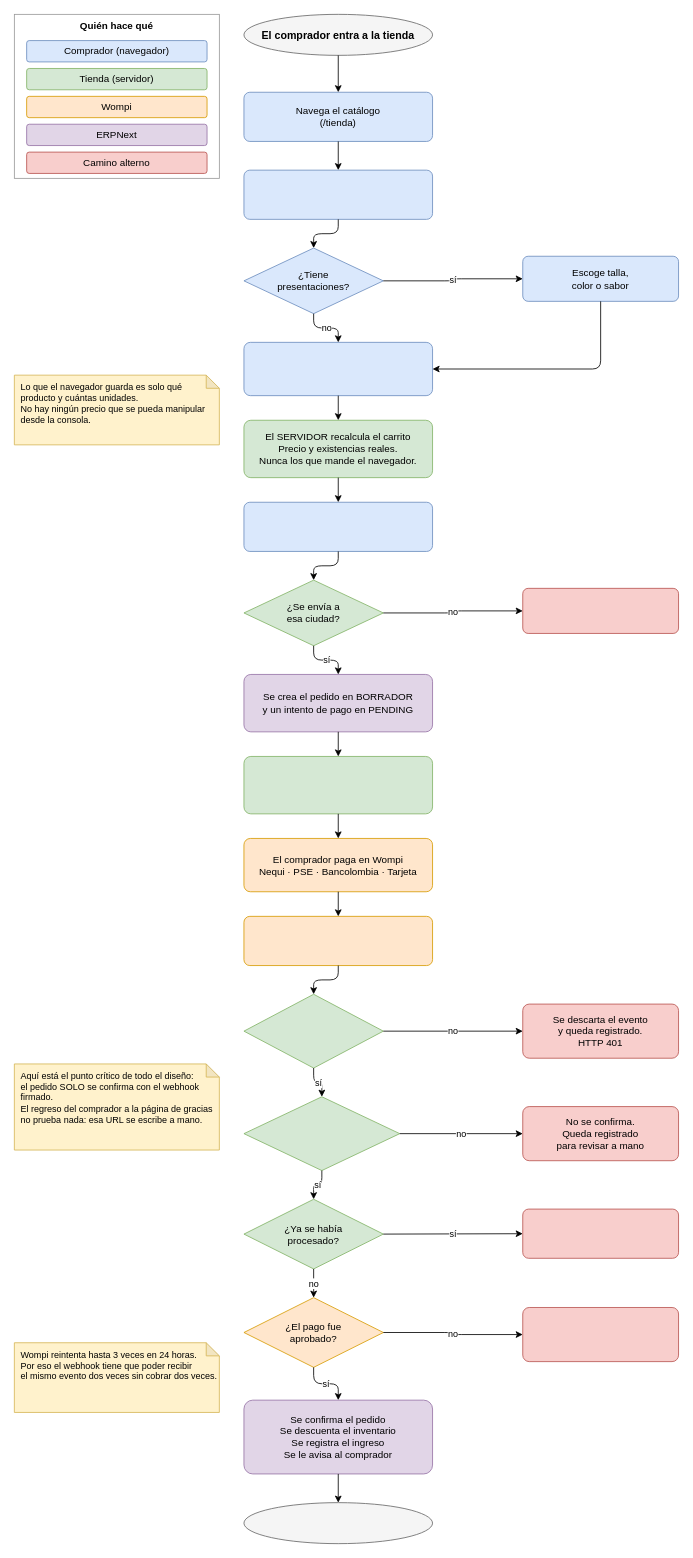
Some shapes in this 693 by 1558 pixel diagram are drawn without their labels. The centre of each missing label's shape, as x and y in pixels:
Abre un producto: pixel 338 194
Agrega al carrito (el navegador guarda solo código y cantidad): pixel 338 369
Checkout: datos del comprador y ciudad: pixel 338 526
El borrador queda ahí. El comprador puede reintentar el pago: pixel 600 1334
Pedido listo para despachar: pixel 338 1523
Se avisa que todavía no hay cobertura: pixel 600 610
Se firma el monto SHA256(referencia + monto + moneda + secreto): pixel 338 785
Se responde 200 sin hacer nada otra vez: pixel 600 1233
Wompi avisa por webhook firmado: pixel 338 941
¿El monto pagado coincide con el pedido?: pixel 321 1133
¿La firma del evento cuadra?: pixel 313 1030
